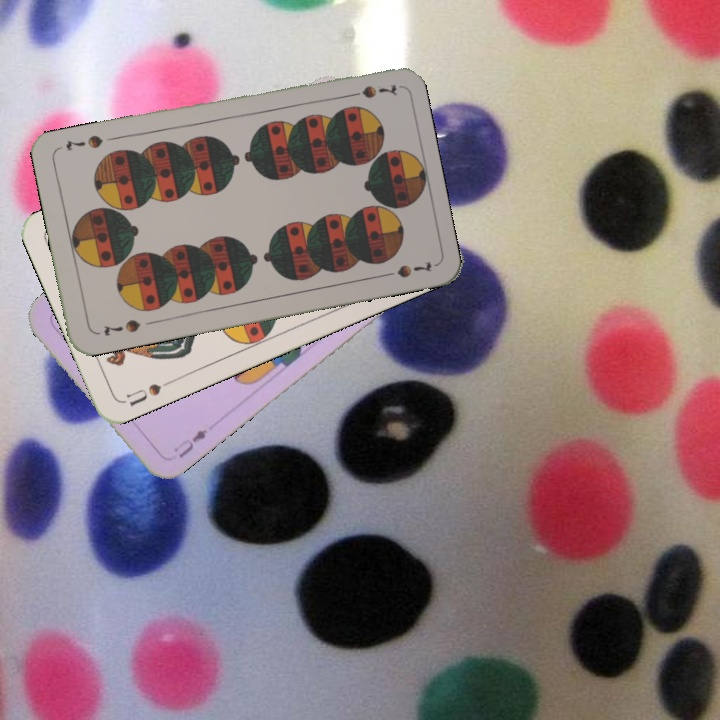EU: (169, 425, 211, 461)
S7: (340, 80, 400, 101), (100, 315, 143, 339)
SU: (122, 376, 175, 409)
